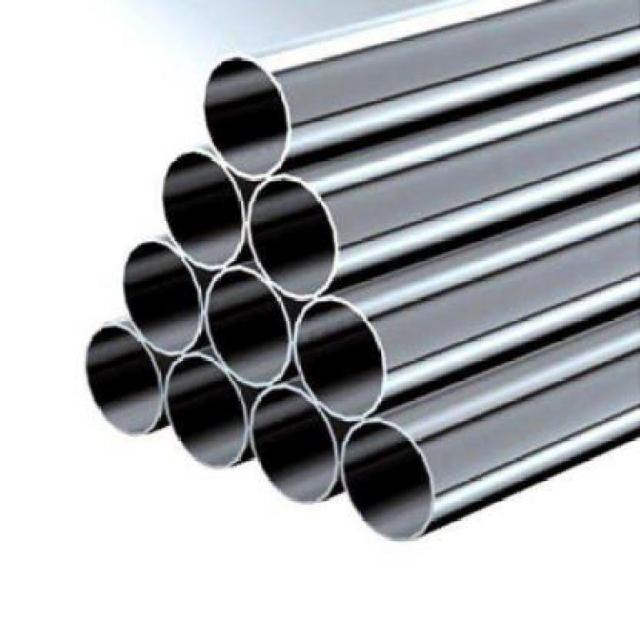pipe: (340, 419, 449, 545), (292, 296, 397, 425), (245, 171, 343, 302), (200, 54, 300, 182), (205, 262, 296, 393), (251, 380, 340, 508), (157, 151, 250, 271), (80, 323, 165, 443), (119, 235, 202, 357), (162, 354, 247, 470)
